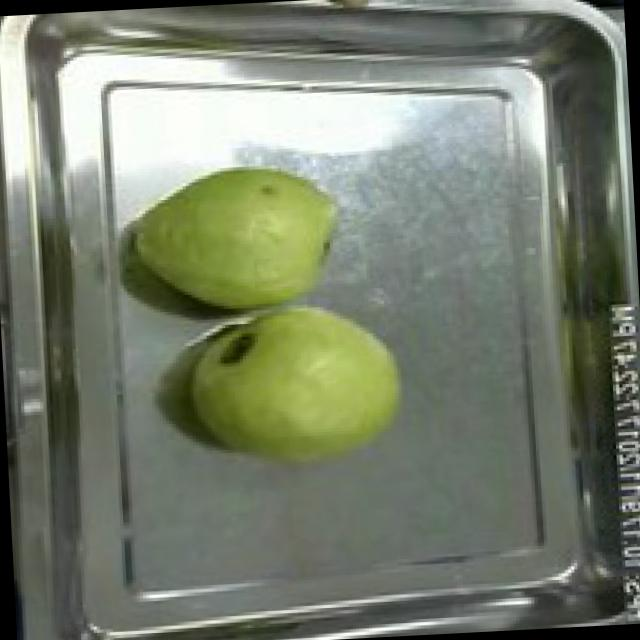Fruit: (174, 286, 418, 488), (122, 149, 349, 330)
